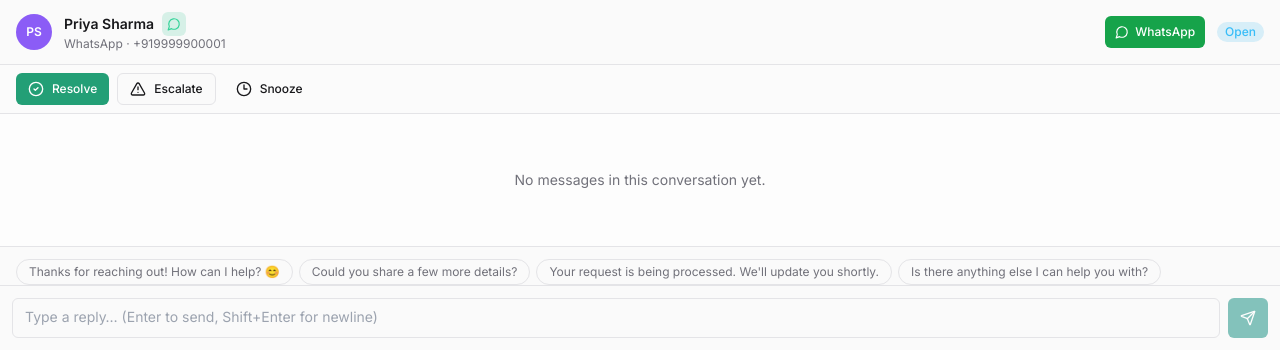
Test case: ConversationThread — reply box › fills the box from a quick reply
The width and height of the screenshot is (1280, 355).
Click the button "Could you share a few more details?": (414, 272) [299, 259, 530, 285]
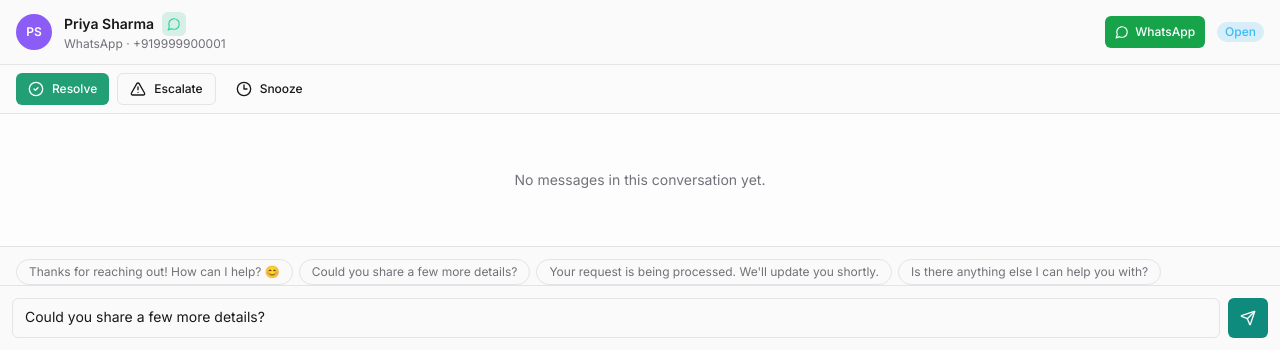
Expected: the text box with placeholder "Type a reply… (Enter to send, Shift+Enter for newline)" holds "Could you share a few more details?", [12, 298, 1220, 338]
